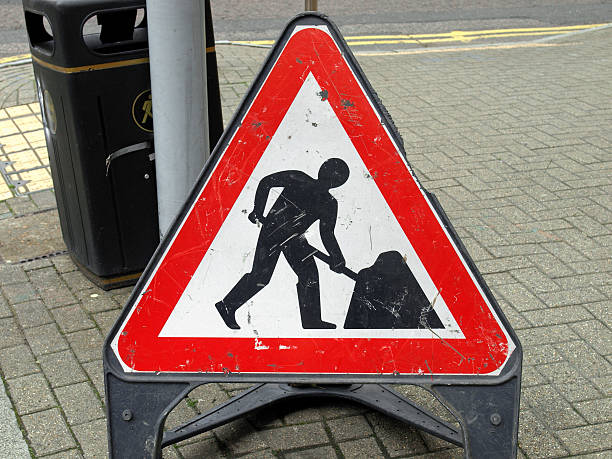yol_calismasi_levha: (103, 13, 523, 378)
